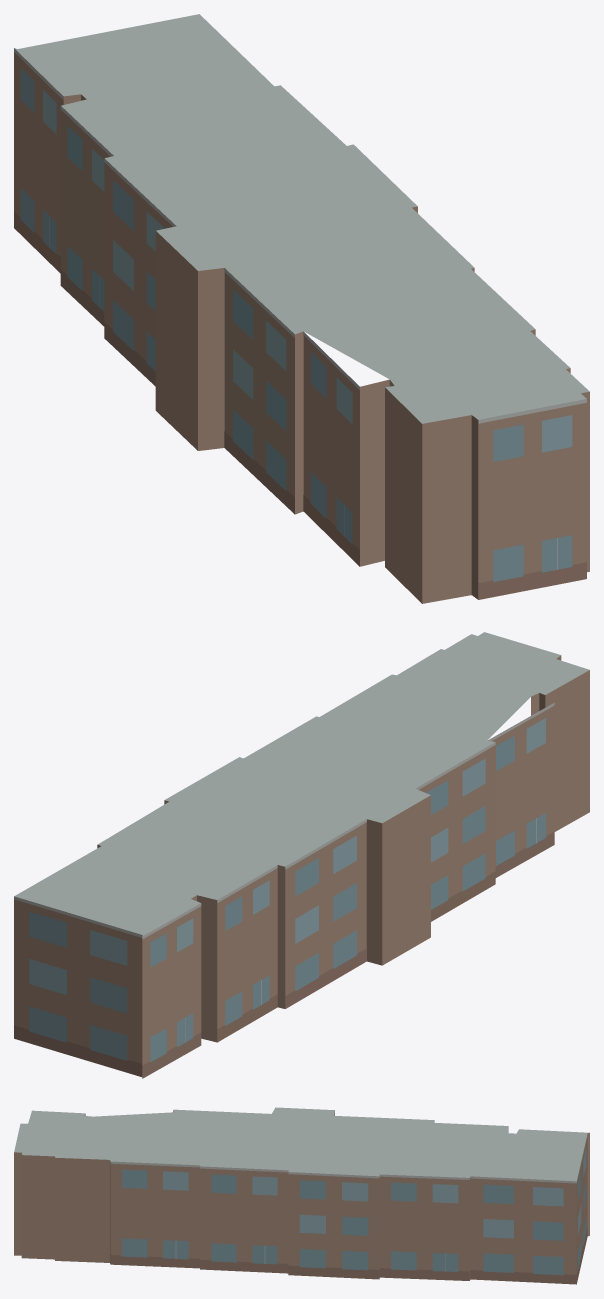
The model's file is survey-upis-32497284.glb.
3 views of the same model, one above another, from view 1: azimuth 30°, elevation 25°; view 2: azimuth 150°, elevation 25°; view 3: azimuth 270°, elevation 25° (orthographic). The views are drawn at different scales.
Parts seen in each view (by area): view 1: survey-upis-32497284.tmp; view 2: survey-upis-32497284.tmp; view 3: survey-upis-32497284.tmp.
Boxes of the visible parts, box(x1,y1,x2,y2) form: survey-upis-32497284.tmp: box(14, 14, 589, 603); survey-upis-32497284.tmp: box(14, 632, 589, 1078); survey-upis-32497284.tmp: box(14, 1107, 589, 1284).
Size of the model in its own units: 17.68 by 11.5 by 58.21.
